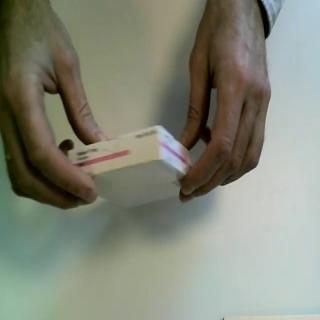valium5mg: (66, 124, 196, 213)
